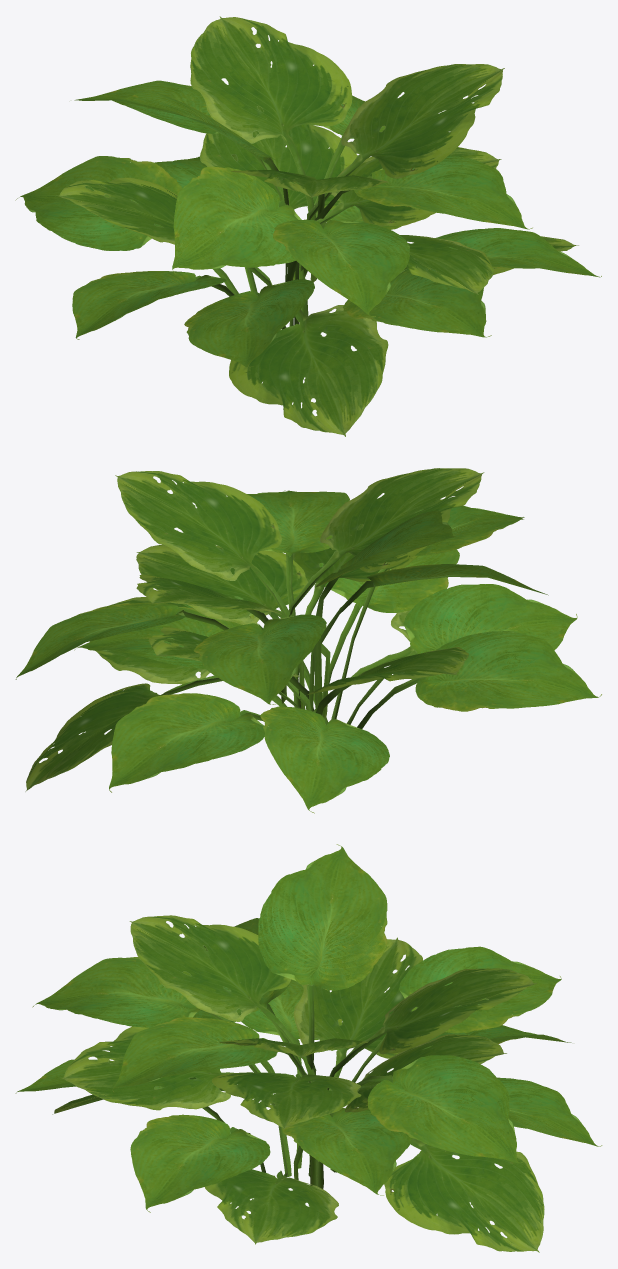
File: NaturePlant01_1.FBX
3 views of the same model, one above another, from view 1: azimuth 30°, elevation 25°; view 2: azimuth 150°, elevation 25°; view 3: azimuth 270°, elevation 25° (orthographic). The views are drawn at different scales.
Parts seen in each view (by area): view 1: NaturePlant01_1; view 2: NaturePlant01_1; view 3: NaturePlant01_1.
Boxes of the visible parts, x1,y1,x2,y2 form: NaturePlant01_1: (15, 16, 601, 436); NaturePlant01_1: (15, 468, 601, 813); NaturePlant01_1: (15, 844, 602, 1252).
Bounding box in the file's own units: 0.7069 × 0.4004 × 0.74.
